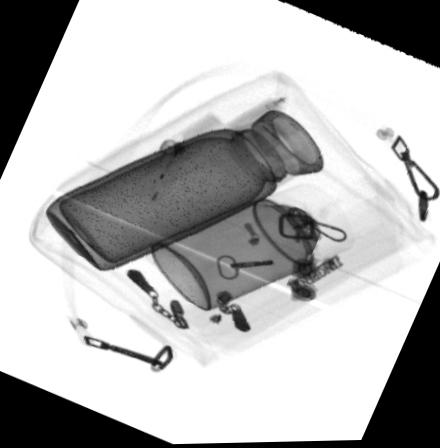Lighter: (134, 138, 188, 208)
Sprayer: (150, 183, 354, 312)
